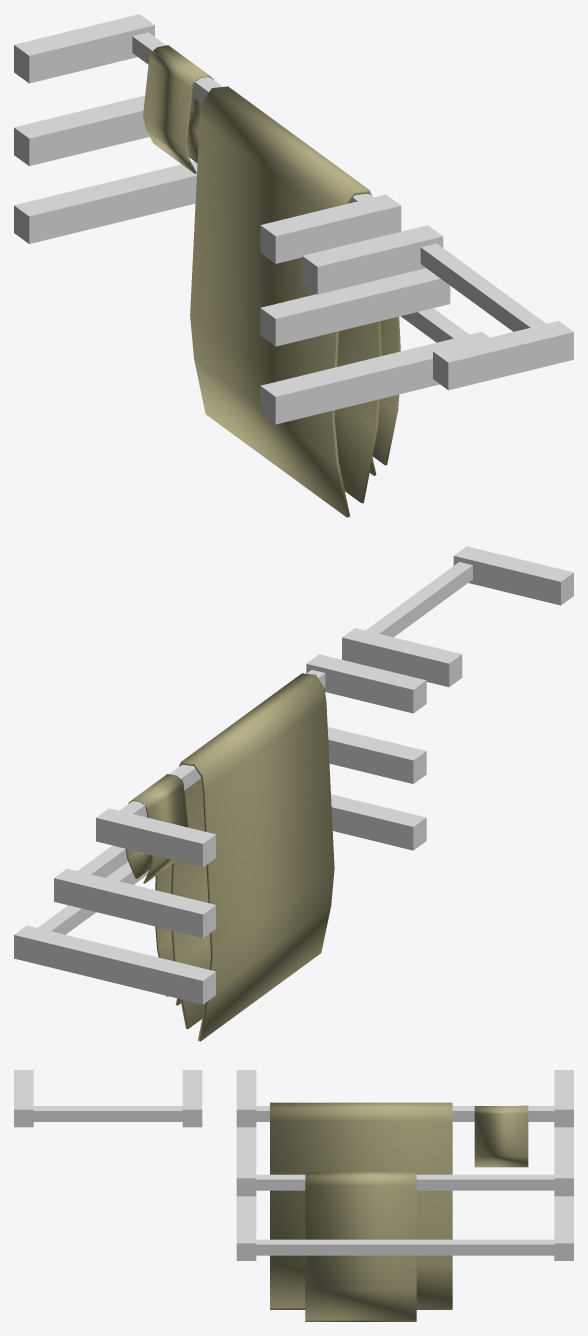
The model's file is TowelRacks.glb.
3 renders of one model, top to bottom at view 1: azimuth 30°, elevation 25°; view 2: azimuth 150°, elevation 25°; view 3: azimuth 270°, elevation 25°, orthographic. The views are drawn at different scales.
Visible parts, largest first — view 1: large_towel, bottom_rack, small_rack, middle_rack, top_rack, small_towel, medium_towel; view 2: large_towel, bottom_rack, small_rack, middle_rack, top_rack, small_towel, medium_towel; view 3: large_towel, medium_towel, bottom_rack, middle_rack, small_rack, small_towel, top_rack.
Part boxes in pixels (x1,y1,x2,y2): large_towel: (190,86,381,517); bottom_rack: (14,161,489,424); small_rack: (302,225,573,390); middle_rack: (14,95,450,346); top_rack: (14,14,401,263); small_towel: (143,45,213,173); medium_towel: (369,316,400,475); large_towel: (171,673,334,1041); bottom_rack: (14,794,426,1004); small_rack: (342,546,573,687); middle_rack: (54,727,426,937); top_rack: (96,654,426,867); small_towel: (125,774,188,883); medium_towel: (155,864,180,1005); large_towel: (269,1102,452,1309); medium_towel: (305,1172,416,1321); bottom_rack: (236,1196,573,1260); middle_rack: (236,1127,573,1196); small_rack: (14,1070,202,1127); small_towel: (474,1105,528,1167); top_rack: (236,1070,573,1127).
Size of the model in its own units: 2.6 by 3.64 by 8.82.
